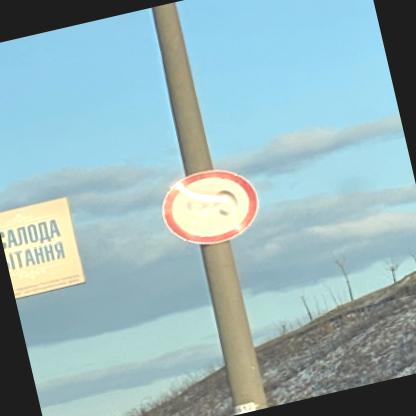speedlimit: (154, 161, 265, 253)
